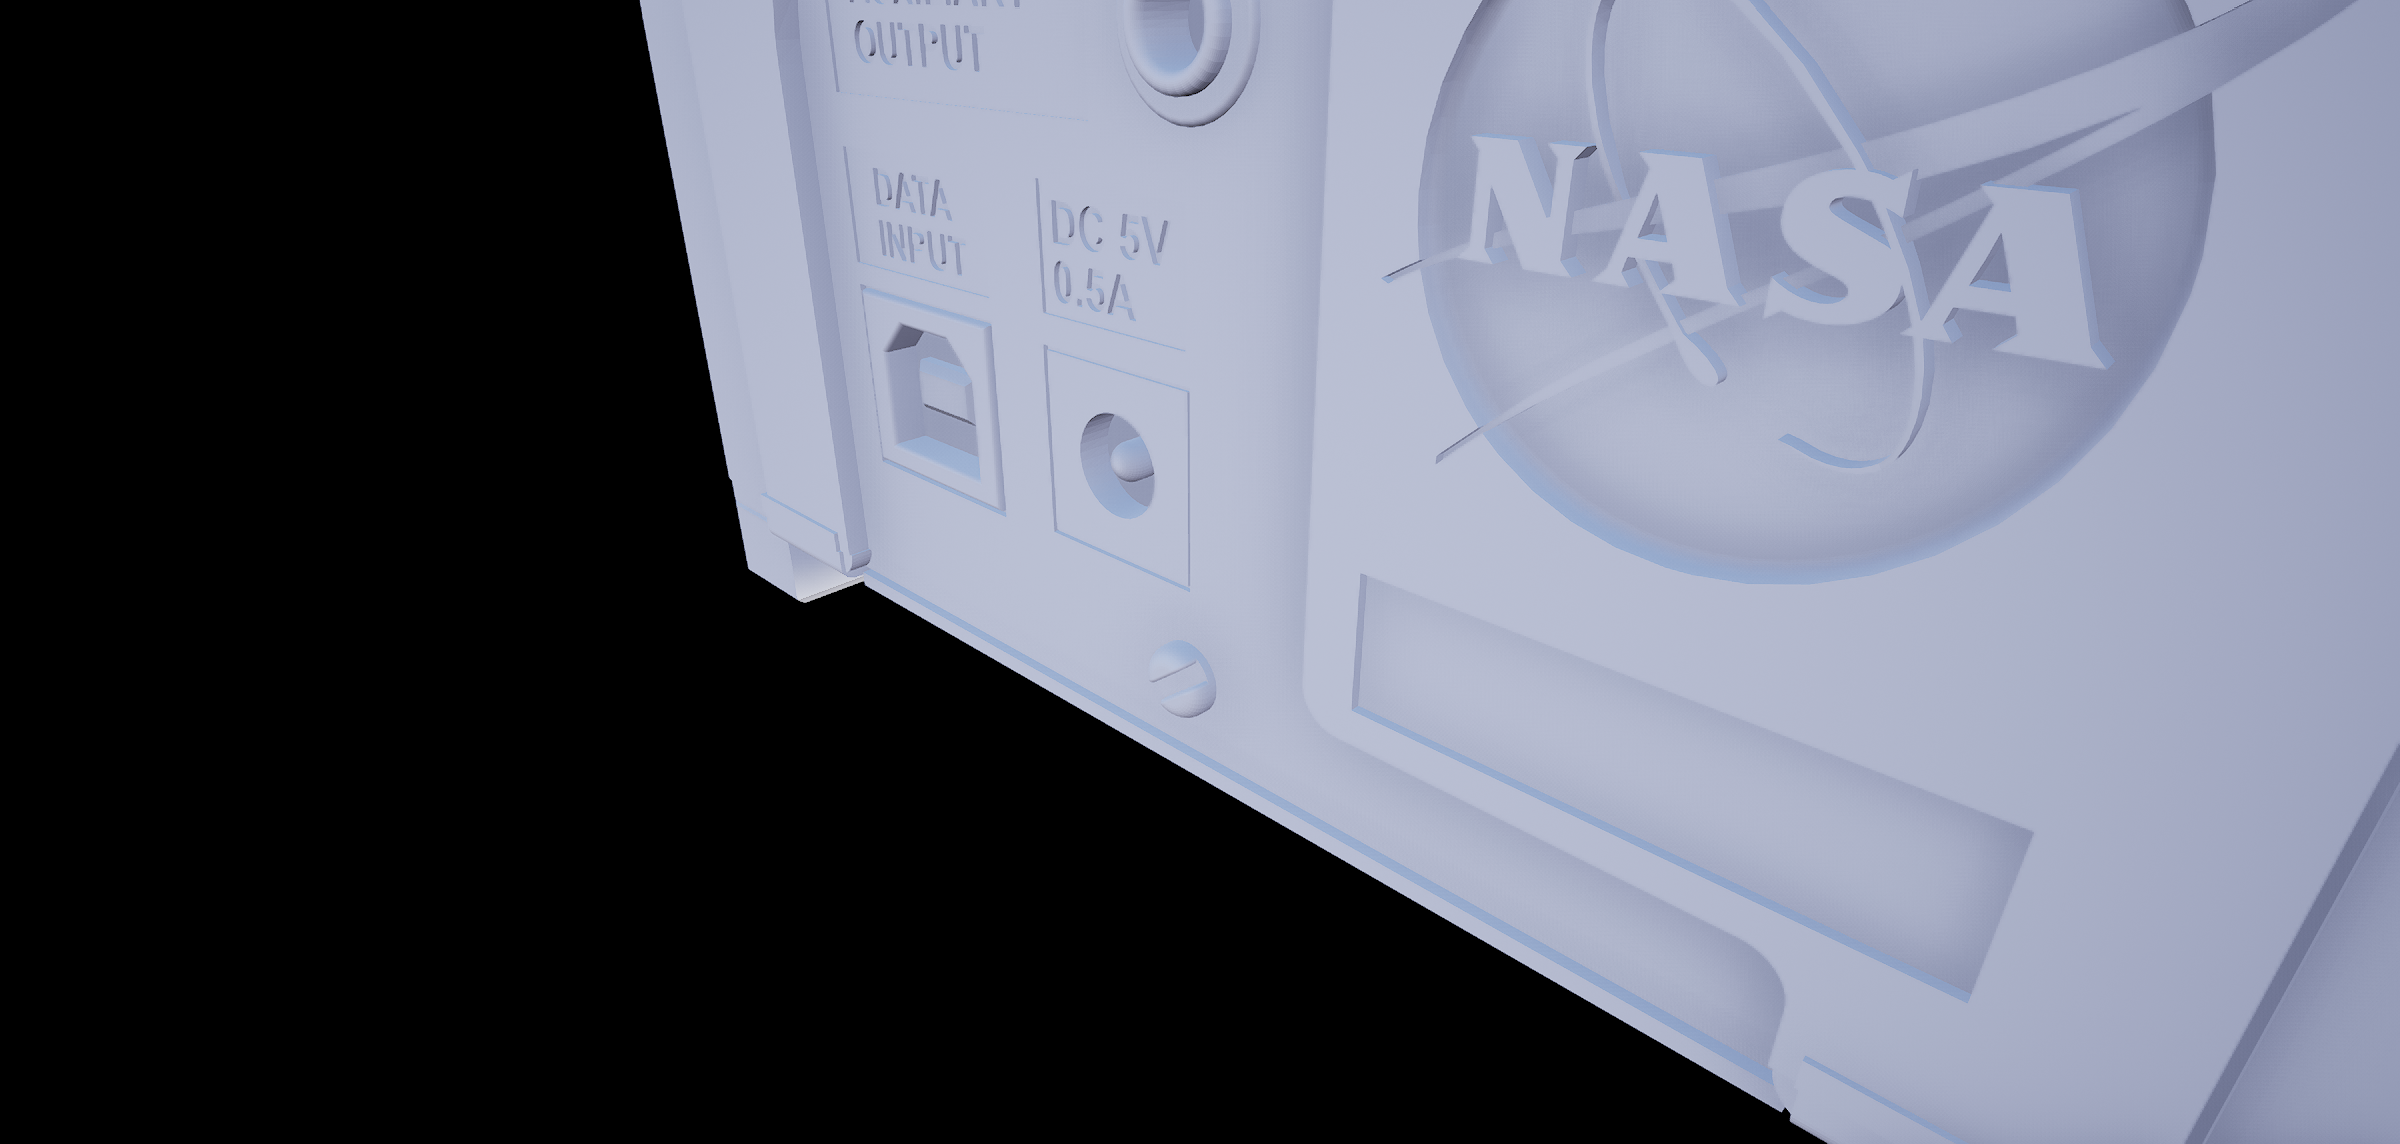aux: (1104, 2, 1267, 126)
dc: (1068, 394, 1169, 544)
usb: (874, 317, 992, 492)
